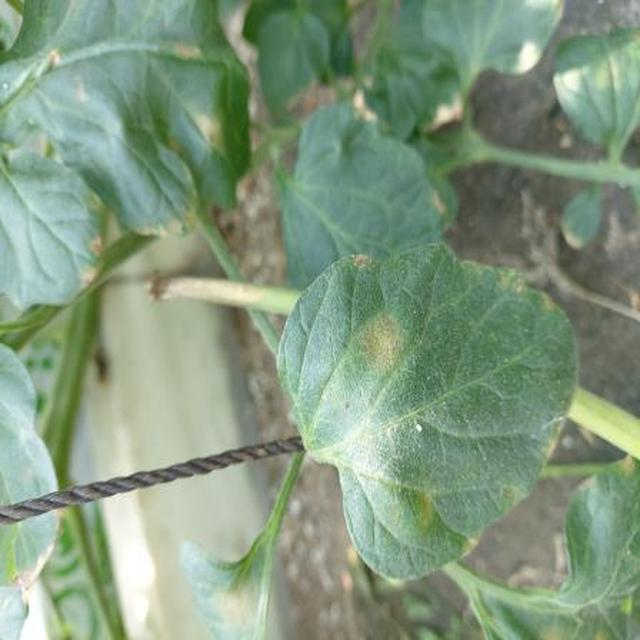Leaf Mold: (182, 223, 609, 586)
